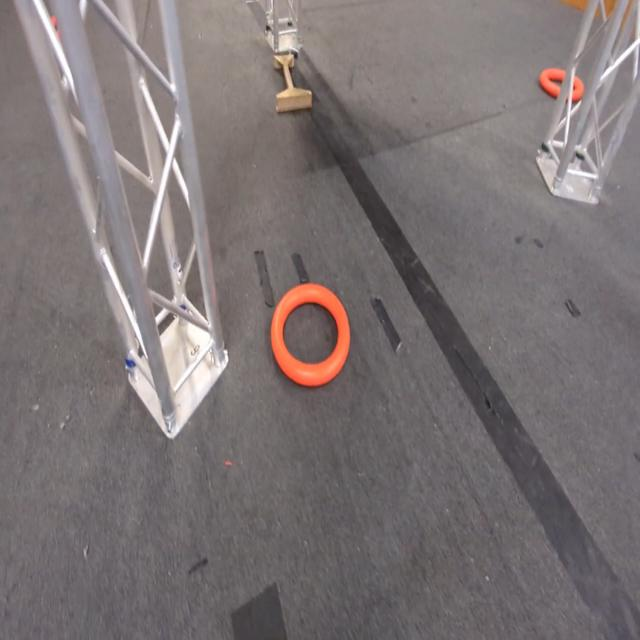note: (270, 287, 348, 386), (540, 67, 584, 103)
